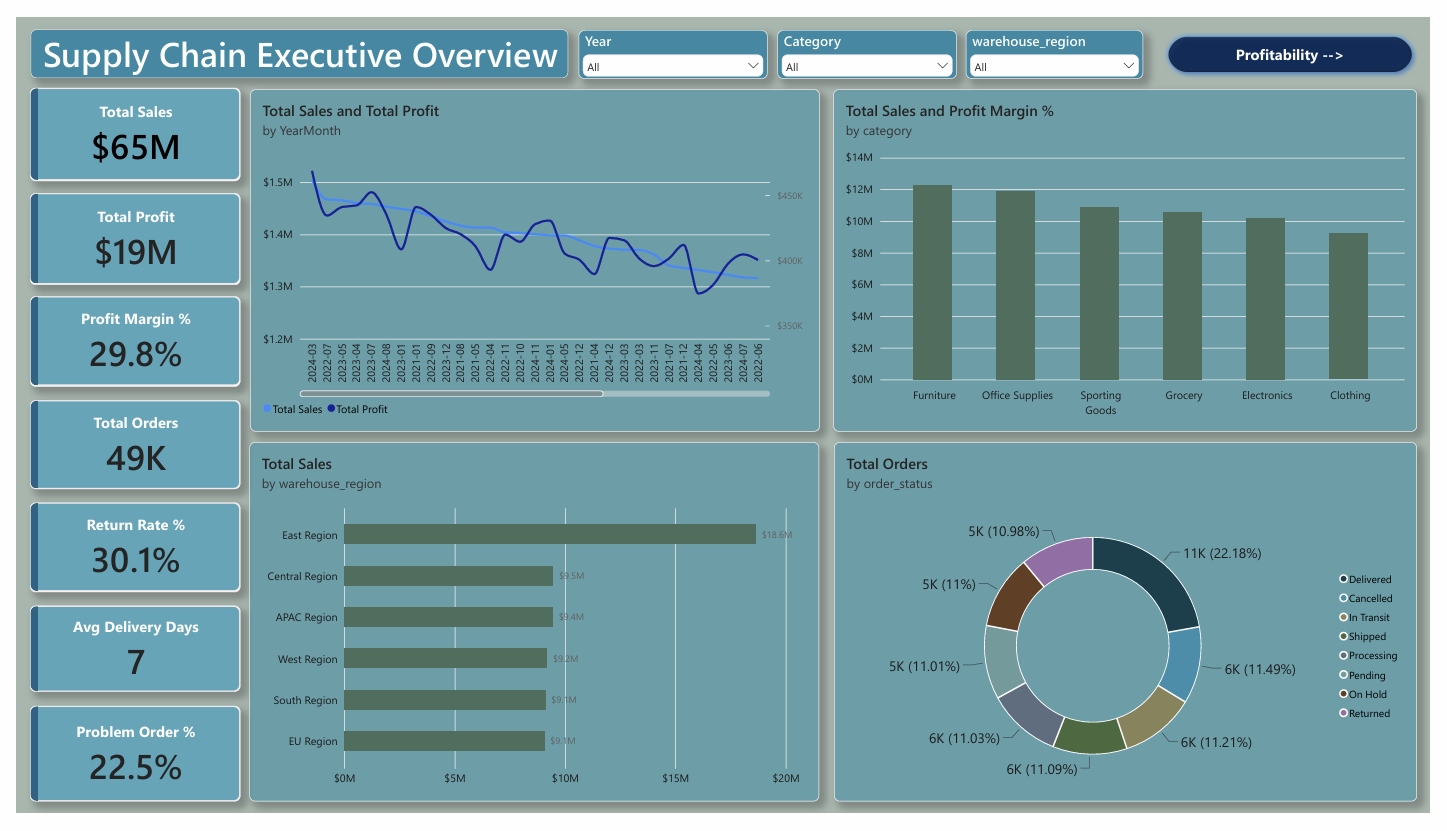

The page's visual inventory and layout, read from the dashboard file:
{"tool":"powerbi","page":{"name":"Overview","canvas":[1920,1080],"ordinal":0},"visuals":[{"type":"textbox","title":"Supply Chain Executive Overview","box":[18.5,16.5,730.7,65.9],"z":0},{"type":"slicer","fields":{"Values":["DateTable.Year"]},"box":[763,16.5,256.8,66],"z":1000},{"type":"slicer","fields":{"Values":["supply_chain_analysis_dashboard.category"]},"box":[1032.7,16.5,244,66],"z":2000},{"type":"slicer","fields":{"Values":["supply_chain_analysis_dashboard.warehouse_region"]},"box":[1289.5,16.5,240.3,66],"z":3000},{"type":"cardVisual","fields":{"Data":["supply_chain_analysis_dashboard.Total Sales"]},"box":[18.3,95.4,286.1,126.6],"z":4000},{"type":"cardVisual","fields":{"Data":["supply_chain_analysis_dashboard.Total Profit"]},"box":[18.3,238.5,286.1,124.7],"z":5000},{"type":"cardVisual","fields":{"Data":["supply_chain_analysis_dashboard.Profit Margin %"]},"box":[18.3,377.9,286.1,122.9],"z":6000},{"type":"cardVisual","fields":{"Data":["supply_chain_analysis_dashboard.Problem Order %"]},"box":[18,934,286,130],"z":7000},{"type":"cardVisual","fields":{"Data":["supply_chain_analysis_dashboard.Avg Delivery Days"]},"box":[18.3,797.9,286.1,117.4],"z":8000},{"type":"cardVisual","fields":{"Data":["supply_chain_analysis_dashboard.Total Orders"]},"box":[18.3,519.1,286.1,121.1],"z":9000},{"type":"cardVisual","fields":{"Data":["supply_chain_analysis_dashboard.Return Rate %"]},"box":[18.3,658.5,286.1,121.1],"z":10000},{"type":"lineChart","fields":{"Category":["DateTable.YearMonth"],"Y":["supply_chain_analysis_dashboard.Total Sales"],"Y2":["supply_chain_analysis_dashboard.Total Profit"]},"box":[317,96.7,773.9,465.2],"z":11000},{"type":"clusteredBarChart","fields":{"Category":["supply_chain_analysis_dashboard.warehouse_region"],"Y":["supply_chain_analysis_dashboard.Total Sales"]},"box":[316,576,774,488],"z":12000},{"type":"clusteredColumnChart","fields":{"Category":["supply_chain_analysis_dashboard.category"],"Y":["supply_chain_analysis_dashboard.Total Sales"]},"box":[1109.4,96.7,792.5,465.2],"z":13000},{"type":"donutChart","fields":{"Category":["supply_chain_analysis_dashboard.order_status"],"Y":["supply_chain_analysis_dashboard.Total Orders"]},"box":[1110,576,792,488],"z":14000},{"type":"actionButton","box":[1555.4,16.5,348.5,66],"z":15000}]}

Visuals, with their boxes in screenshot pixels (x1, y1, x2, y2), scaled from the page's 1920x1080 canvas onto the 1447x831 screenshot:
"Supply Chain Executive Overview" textbox: 14:13:565:63
slicer - DateTable.Year: 575:13:769:63
slicer - supply_chain_analysis_dashboard.category: 778:13:962:63
slicer - supply_chain_analysis_dashboard.warehouse_region: 972:13:1153:63
cardVisual - supply_chain_analysis_dashboard.Total Sales: 14:73:229:171
cardVisual - supply_chain_analysis_dashboard.Total Profit: 14:184:229:279
cardVisual - supply_chain_analysis_dashboard.Profit Margin %: 14:291:229:385
cardVisual - supply_chain_analysis_dashboard.Problem Order %: 14:719:229:819
cardVisual - supply_chain_analysis_dashboard.Avg Delivery Days: 14:614:229:704
cardVisual - supply_chain_analysis_dashboard.Total Orders: 14:399:229:493
cardVisual - supply_chain_analysis_dashboard.Return Rate %: 14:507:229:600
lineChart - DateTable.YearMonth x supply_chain_analysis_dashboard.Total Sales: 239:74:822:432
clusteredBarChart - supply_chain_analysis_dashboard.warehouse_region x supply_chain_analysis_dashboard.Total Sales: 238:443:821:819
clusteredColumnChart - supply_chain_analysis_dashboard.category x supply_chain_analysis_dashboard.Total Sales: 836:74:1433:432
donutChart - supply_chain_analysis_dashboard.order_status x supply_chain_analysis_dashboard.Total Orders: 837:443:1433:819
actionButton: 1172:13:1435:63
